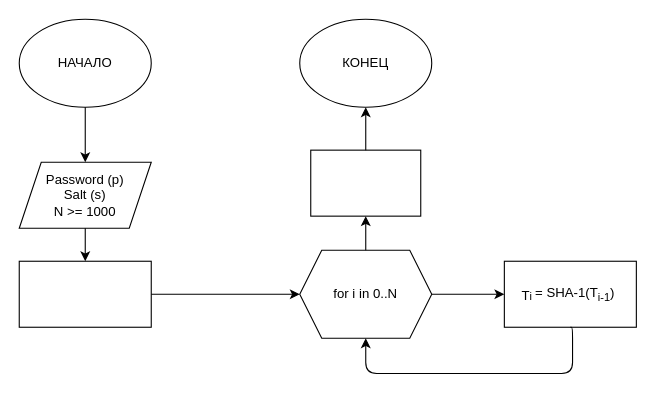
Image size: 656x402. Some labels were removed from this diagram. The centre of each missing label's shape, as x and y in pixels:
K = T N: the point at 365,182
T 0 = P || S: the point at 84,293
